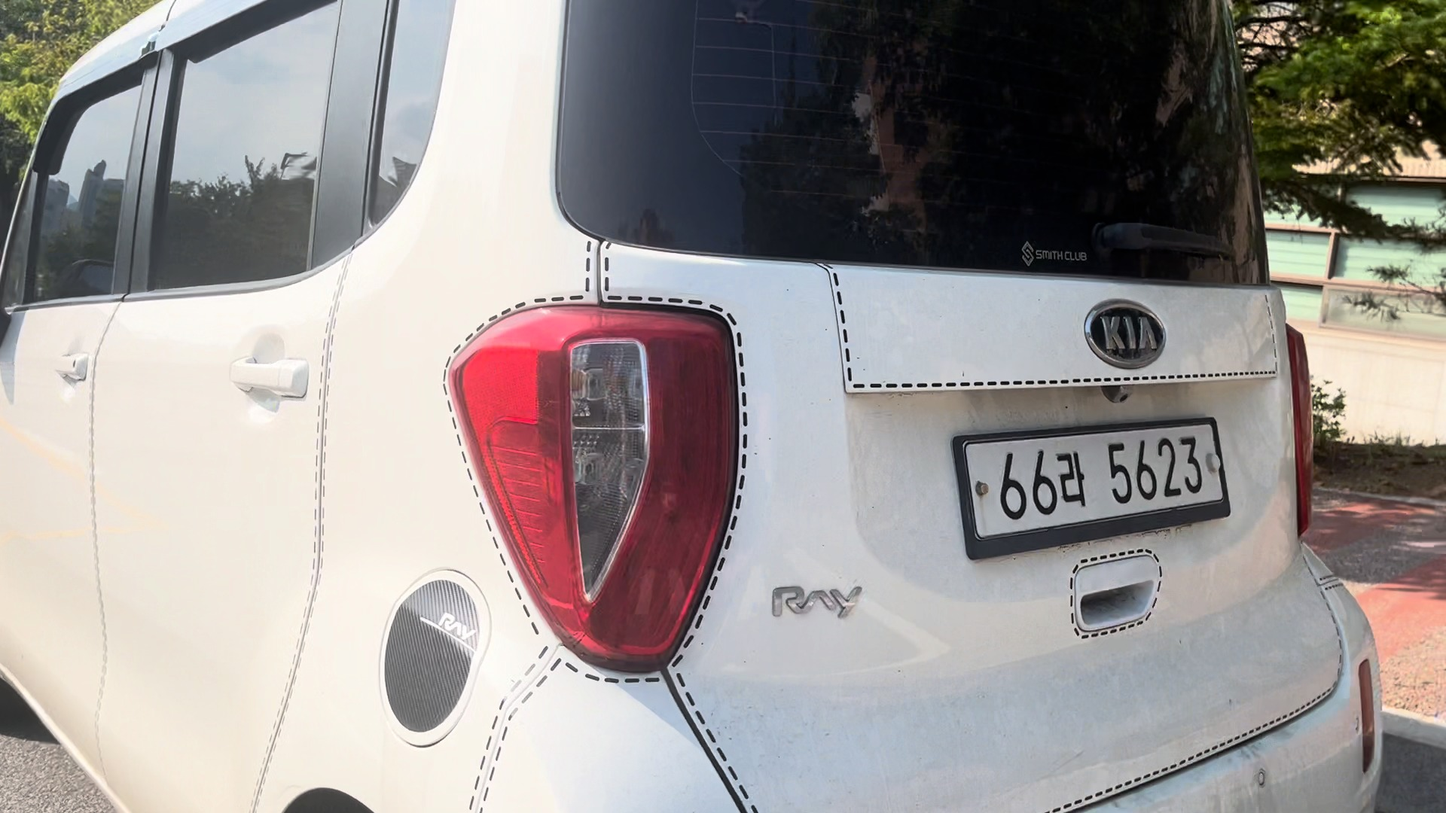car_emblem: (1084, 300, 1165, 368)
door_handle: (230, 358, 308, 397), (55, 353, 89, 381)
fuel_cap: (380, 574, 488, 713)
license_plate: (953, 419, 1229, 559)
tail_light: (450, 306, 737, 670), (1286, 326, 1313, 534), (1358, 659, 1375, 772)
